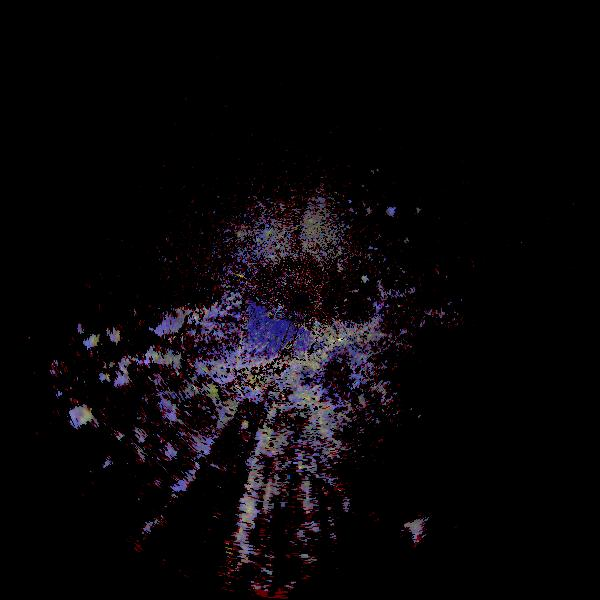roost: (63, 394, 105, 436)
